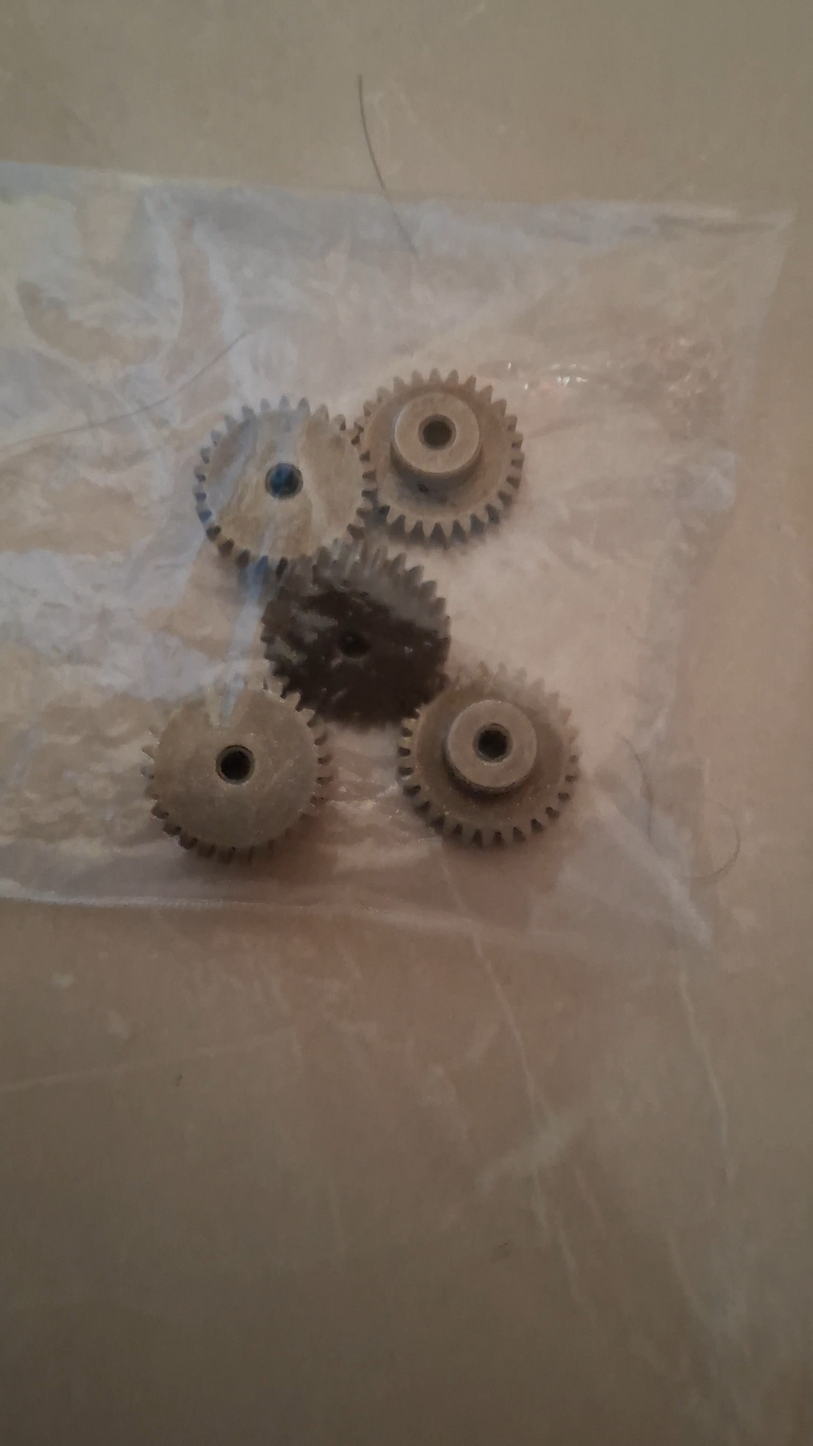spur gear: (263, 544, 449, 723), (144, 681, 329, 859), (399, 667, 578, 845), (195, 398, 363, 568), (356, 371, 523, 541)
